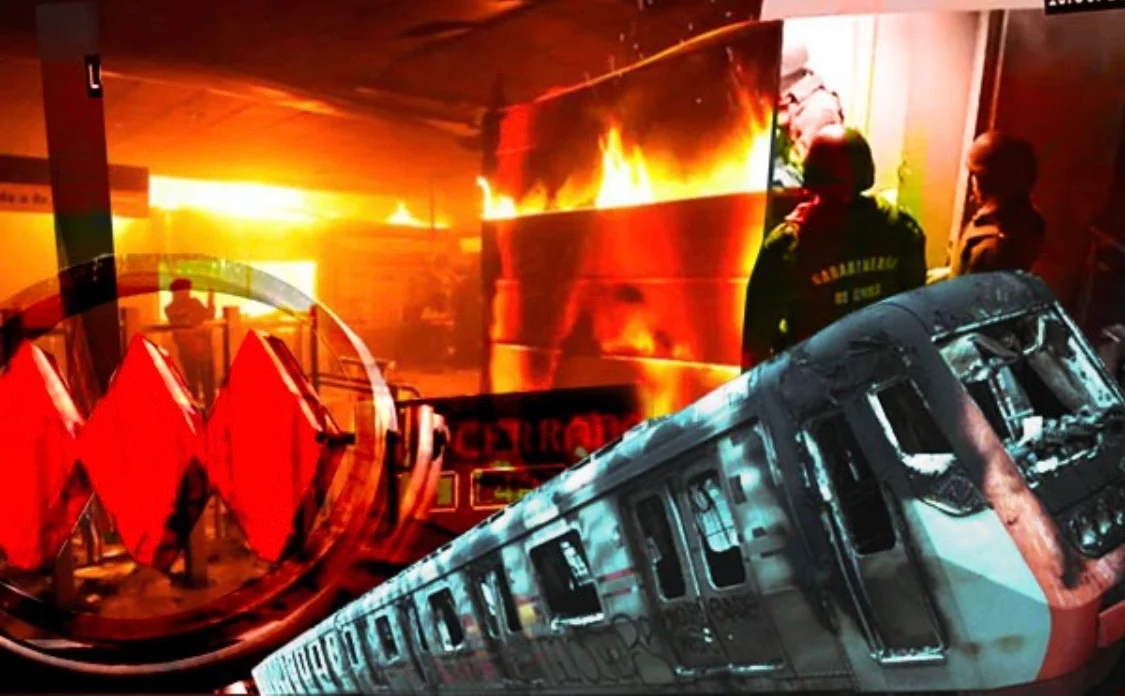Incident Subway: (11, 94, 757, 657)
